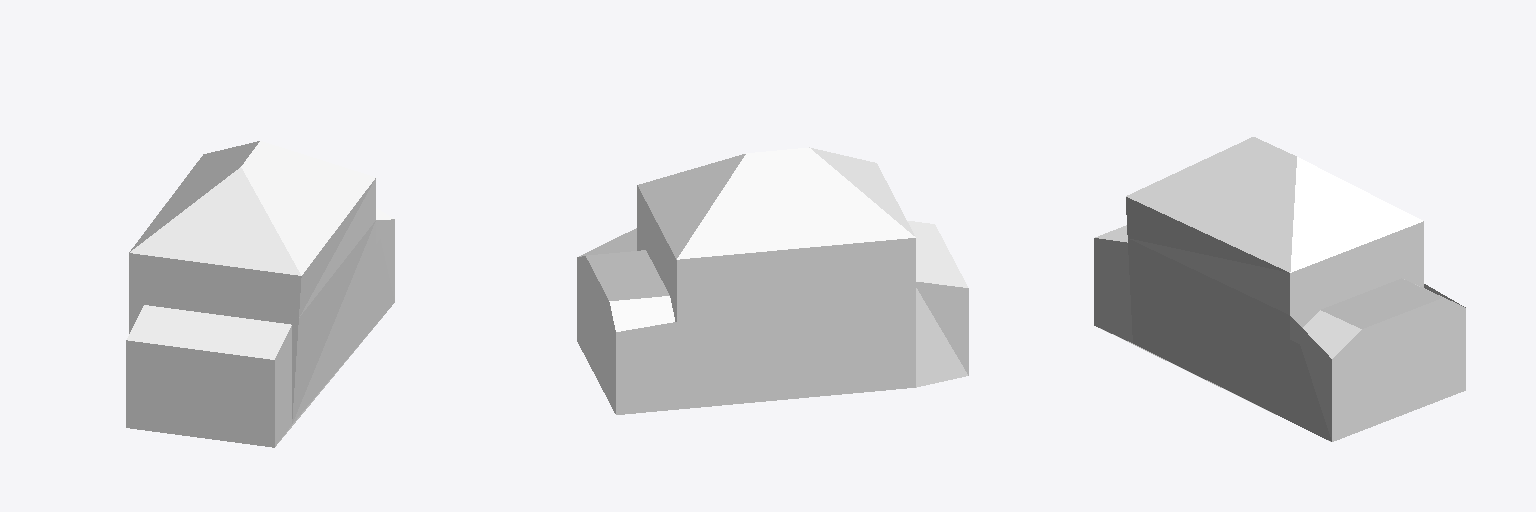
File: house_Shape 290.obj
3 renders of one model, left to right at view 1: azimuth 30°, elevation 25°; view 2: azimuth 150°, elevation 25°; view 3: azimuth 270°, elevation 25°, orthographic.
Visible parts, largest first — view 1: CityEngineMaterial_4, CityEngineMaterial_78, CityEngineMaterial_189, CityEngineMaterial_77; view 2: CityEngineMaterial_78, CityEngineMaterial_4, CityEngineMaterial_77, CityEngineMaterial_189, CityEngineMaterial_192; view 3: CityEngineMaterial_77, CityEngineMaterial_4, CityEngineMaterial_78, CityEngineMaterial_189, CityEngineMaterial_192.
Part boxes in pixels (x1,y1,x2,y2): CityEngineMaterial_4: (127, 141, 393, 359); CityEngineMaterial_78: (126, 219, 394, 447); CityEngineMaterial_189: (129, 178, 375, 317); CityEngineMaterial_77: (129, 296, 298, 446); CityEngineMaterial_78: (579, 228, 915, 414); CityEngineMaterial_4: (609, 147, 967, 331); CityEngineMaterial_77: (577, 185, 968, 413); CityEngineMaterial_189: (677, 238, 915, 301); CityEngineMaterial_192: (586, 250, 669, 300); CityEngineMaterial_77: (1094, 221, 1465, 441); CityEngineMaterial_4: (1095, 137, 1454, 358); CityEngineMaterial_78: (1128, 239, 1465, 441); CityEngineMaterial_189: (1126, 197, 1289, 314); CityEngineMaterial_192: (1100, 278, 1442, 441).
Bounding box in the file's own units: 14.49 × 8.87 × 14.11.